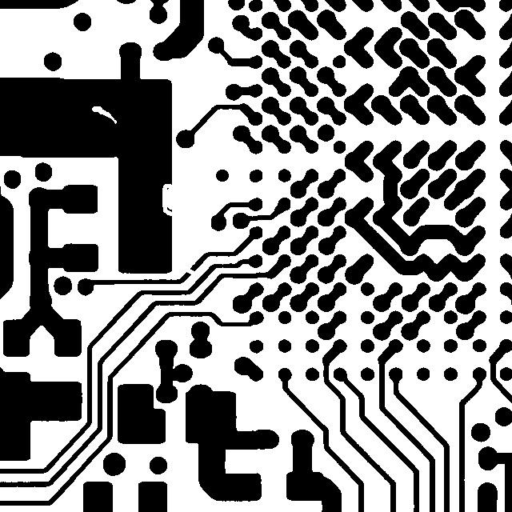copper: (208, 162, 236, 189)
mousebite: (154, 176, 182, 223)
open: (176, 258, 202, 282)
pin-hole: (84, 98, 124, 131)
